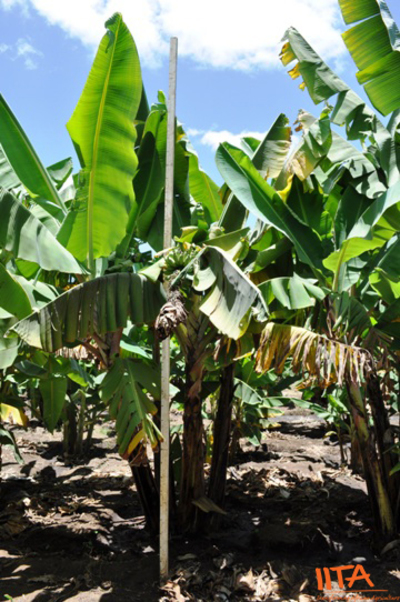bananaHand: (160, 245, 212, 291)
